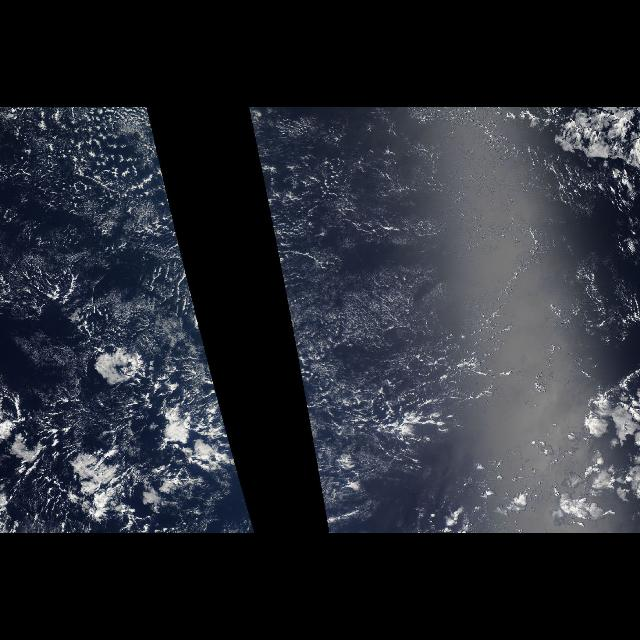Sugar: (249, 107, 499, 390), (4, 107, 218, 390)
